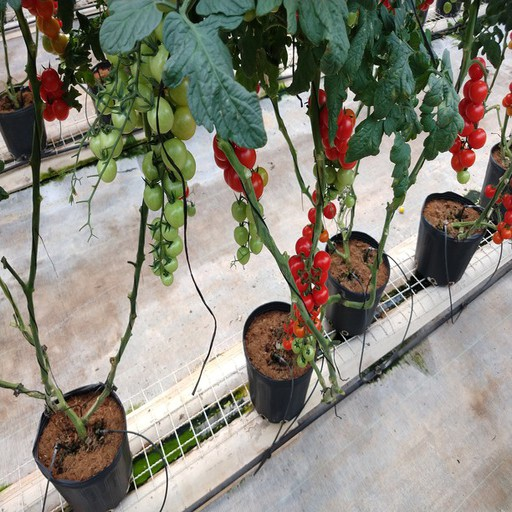green tomato bunch: (149, 9, 195, 283), (88, 22, 152, 183), (226, 195, 264, 265)
red tomato bunch: (286, 236, 336, 337), (449, 56, 486, 185), (308, 93, 359, 170), (213, 125, 264, 200), (19, 1, 73, 55), (25, 66, 73, 119), (481, 182, 512, 247)
